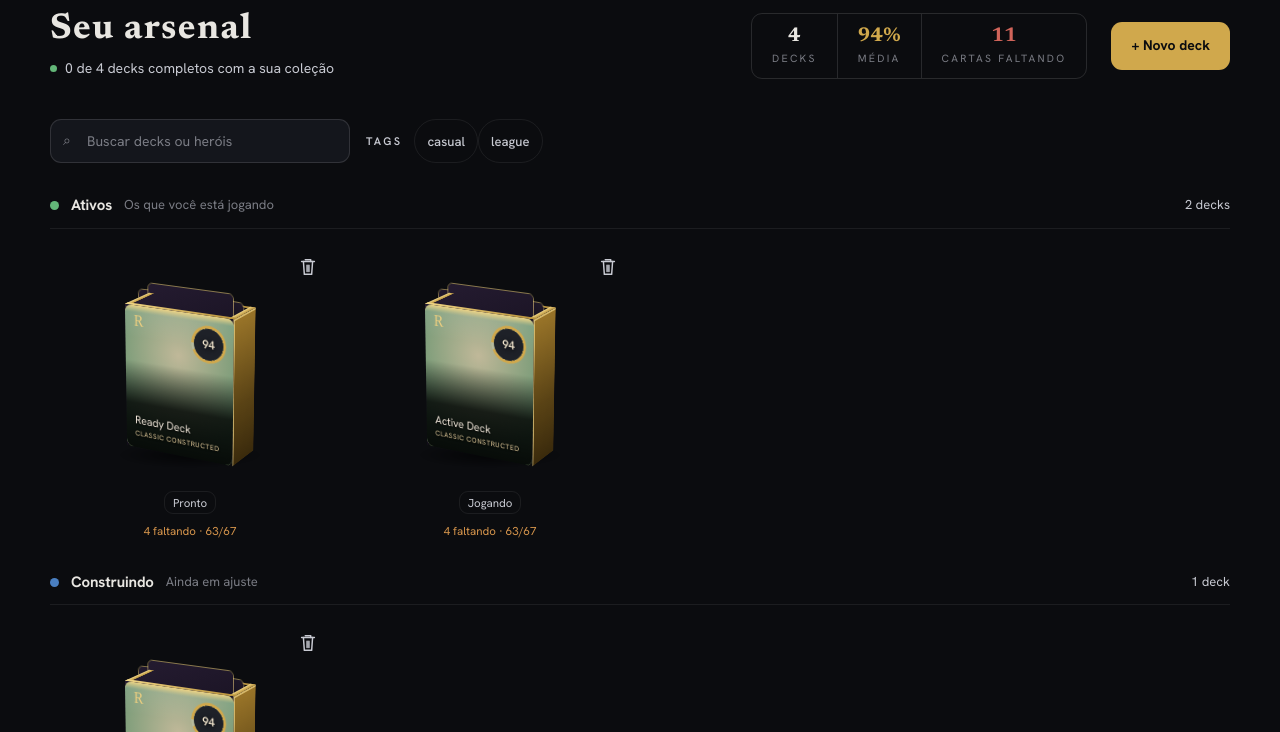
Home route › filters the grid and the group counts as the search text changes (HOME-05)
Type "ready" into the search field labelled "Buscar decks ou heróis". click: [200, 142]
box: [50, 120, 350, 164]
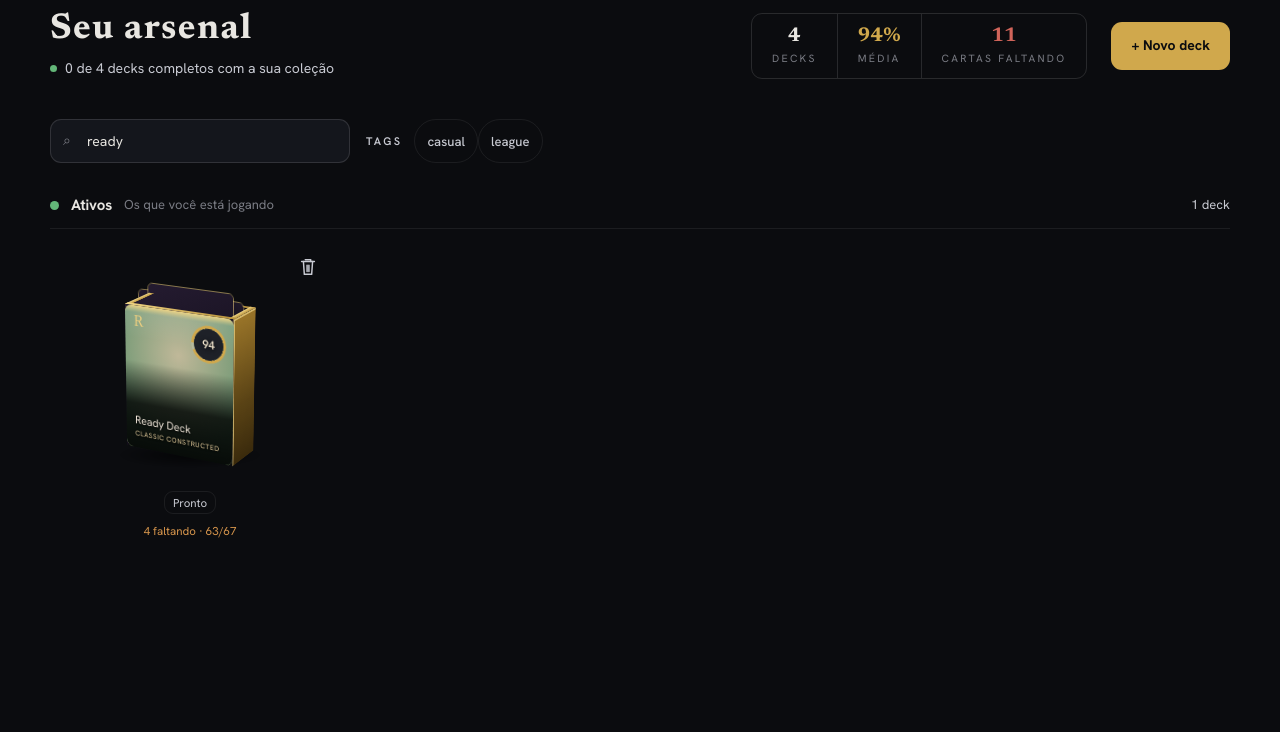
Result: the text "1 deck" is shown at [1191, 196, 1230, 216]
Result: the link labelled "Active Deck" is gone
Result: the heading "Construindo" is gone
